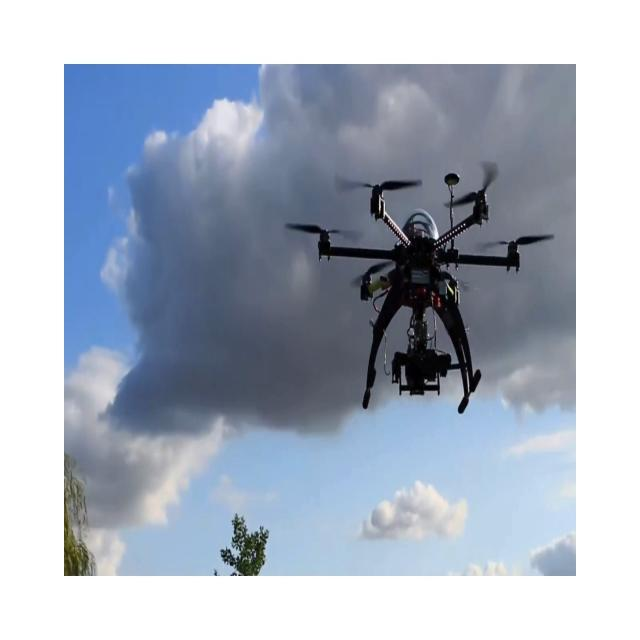drone: (284, 160, 554, 414)
